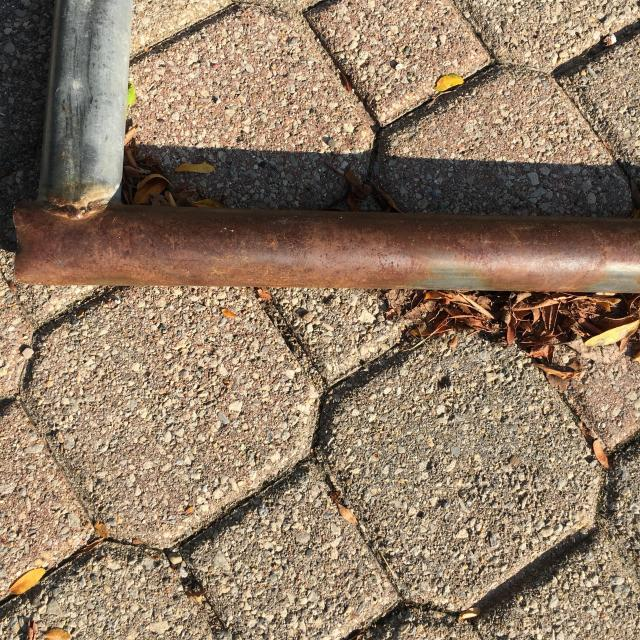Crevice Corrosion: (34, 193, 119, 218)
Uniform Corrosion: (14, 203, 640, 290)
